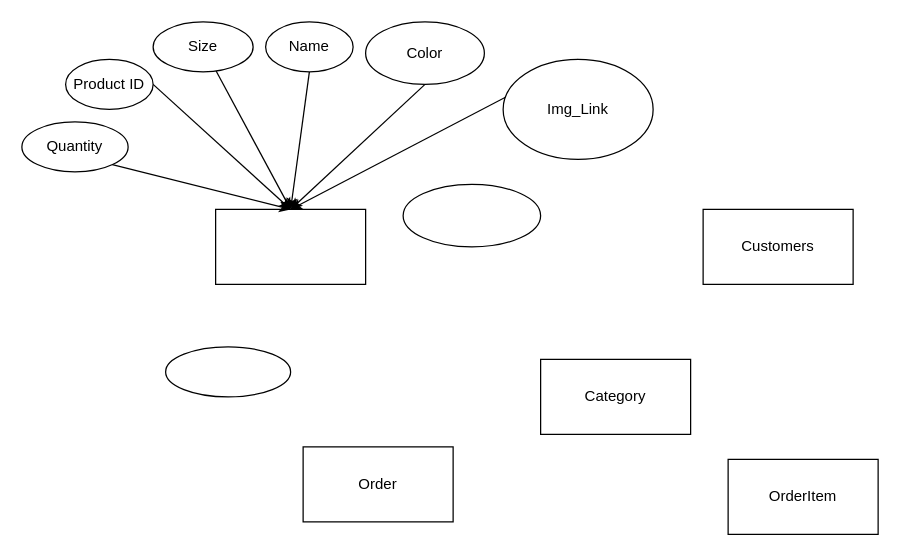
Some shapes in this 900 by 556 pixel diagram are drawn without their labels. The box of each missing label's shape, as (x1, y1, x2, y2) in pixels:
Catergory name: (164, 346, 291, 397)
Price: (402, 183, 541, 247)
Products: (214, 208, 366, 284)
